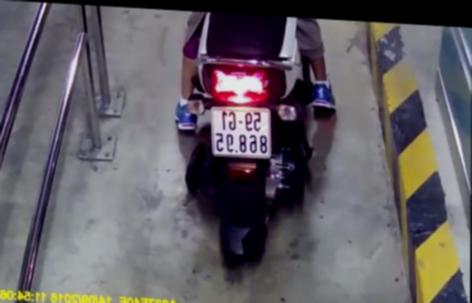License_Plate: (204, 99, 278, 168)
